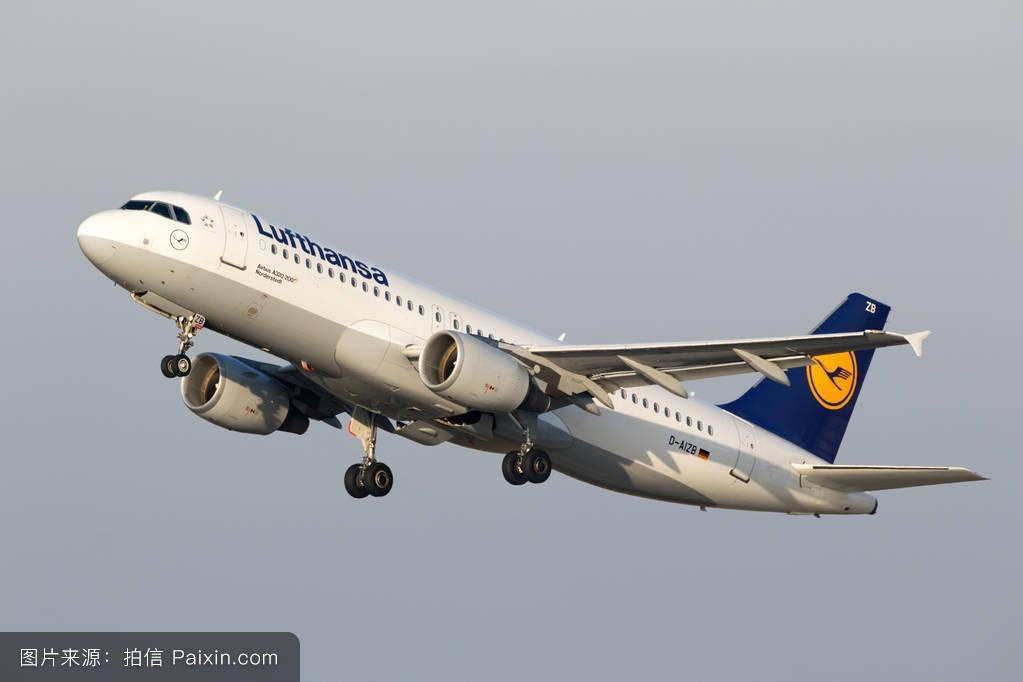airplane: (73, 177, 989, 523)
